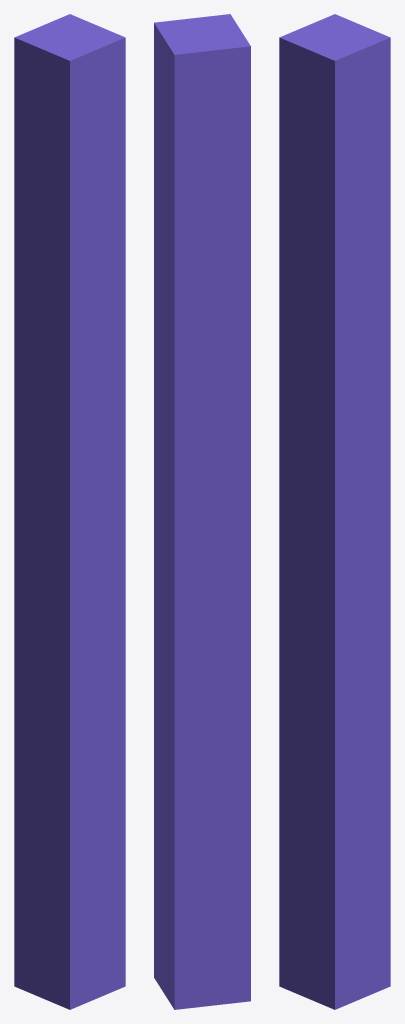
Rendered from Armor_Breastplate_Trim_Starlight.fbx.
3 renders of one model, left to right at view 1: azimuth 90°, elevation 25°; view 2: azimuth 150°, elevation 25°; view 3: azimuth 270°, elevation 25°, orthographic.
Parts seen in each view (by area): view 1: Armor_Breastplate_Trim_Starlight; view 2: Armor_Breastplate_Trim_Starlight; view 3: Armor_Breastplate_Trim_Starlight.
Part boxes in pixels (x1,y1,x2,y2): Armor_Breastplate_Trim_Starlight: (14, 14, 125, 1009); Armor_Breastplate_Trim_Starlight: (154, 14, 250, 1009); Armor_Breastplate_Trim_Starlight: (279, 14, 390, 1009).
Size of the model in its own units: 0.01 by 0.0942 by 0.01.
